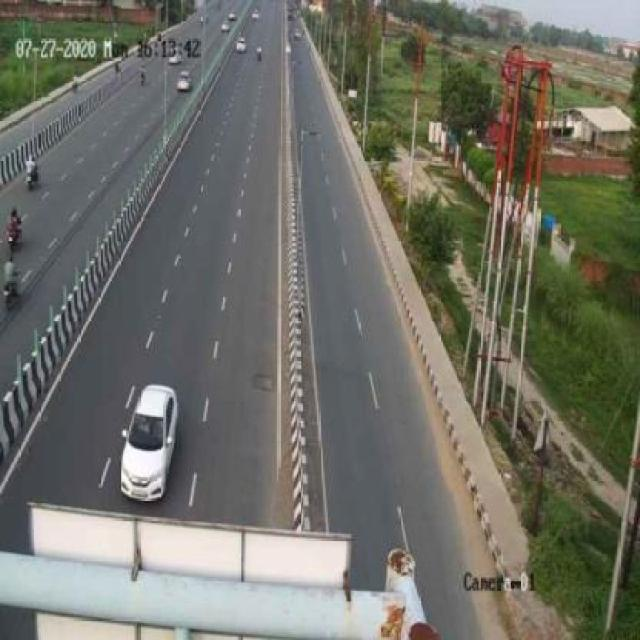car: (122, 382, 178, 502), (174, 71, 195, 92)
